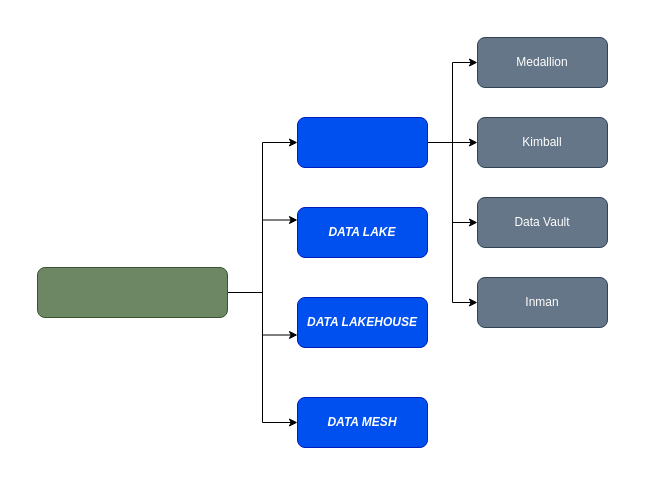
Image size: 654x484. Some labels were removed from this diagram. The shapes that lost their labels are listed below. From the top down, each one's centre as x and y in pixels, then its label:
point 362,142: DATA WAREHOUSE
point 132,292: DATA ARCHITECTURE
